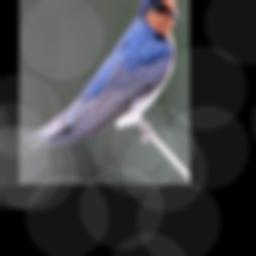Swallow: (22, 0, 179, 148)
